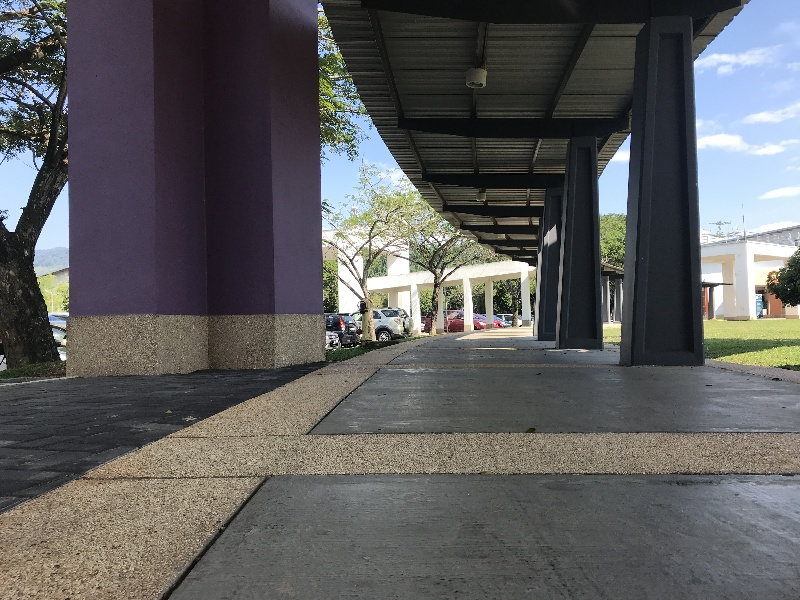Block D Pillar 7: (11, 4, 799, 498)
pillar: (52, 6, 340, 378), (620, 16, 713, 384), (554, 129, 606, 361)
